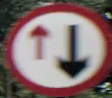Two way: (19, 11, 98, 84)
